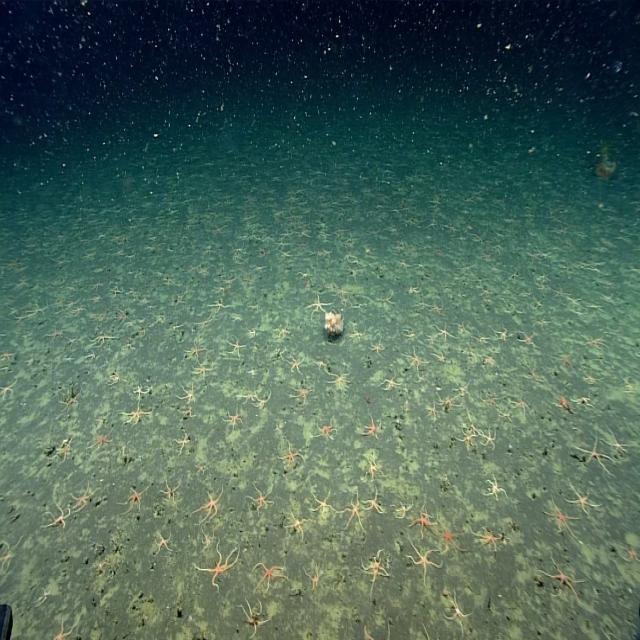brittle-stars: (197, 540, 241, 586), (542, 556, 579, 597), (407, 537, 440, 579), (573, 434, 610, 470), (544, 498, 576, 538), (337, 494, 366, 535), (443, 588, 468, 634), (253, 552, 283, 590), (237, 596, 267, 634), (358, 552, 392, 584), (566, 484, 598, 516), (42, 498, 71, 533), (196, 492, 225, 526), (49, 608, 77, 640), (437, 521, 462, 555), (72, 481, 100, 511), (247, 484, 273, 516), (327, 364, 350, 396), (124, 400, 150, 428), (286, 508, 308, 540), (278, 439, 304, 466), (311, 489, 335, 518), (471, 526, 499, 550), (485, 470, 506, 501), (151, 523, 174, 551), (404, 346, 427, 374), (359, 413, 382, 440), (125, 485, 147, 512), (392, 494, 414, 521), (90, 428, 115, 451), (479, 389, 502, 414), (161, 476, 180, 506), (316, 415, 337, 442), (525, 360, 544, 389), (610, 429, 629, 457), (306, 294, 328, 318), (618, 545, 640, 568), (365, 488, 383, 516), (413, 503, 428, 535), (511, 394, 530, 419), (480, 424, 496, 452), (222, 411, 245, 430), (291, 381, 310, 404), (227, 336, 245, 360), (516, 328, 537, 348), (92, 328, 114, 347), (434, 320, 453, 342), (555, 350, 574, 372), (440, 396, 462, 415), (574, 393, 595, 412), (178, 382, 196, 404), (369, 334, 385, 358), (363, 453, 379, 477), (453, 375, 471, 396), (194, 313, 216, 330), (171, 429, 190, 448), (193, 361, 212, 380), (286, 354, 304, 374), (187, 340, 204, 360), (382, 370, 398, 391), (459, 427, 475, 448), (43, 325, 64, 341), (256, 391, 270, 415), (0, 381, 17, 400), (586, 330, 602, 350), (57, 441, 73, 460), (495, 326, 511, 344), (238, 388, 255, 404), (426, 401, 440, 420), (193, 460, 207, 479), (209, 299, 231, 311), (432, 349, 448, 365), (90, 279, 104, 292), (337, 285, 348, 298), (423, 508, 431, 522)
